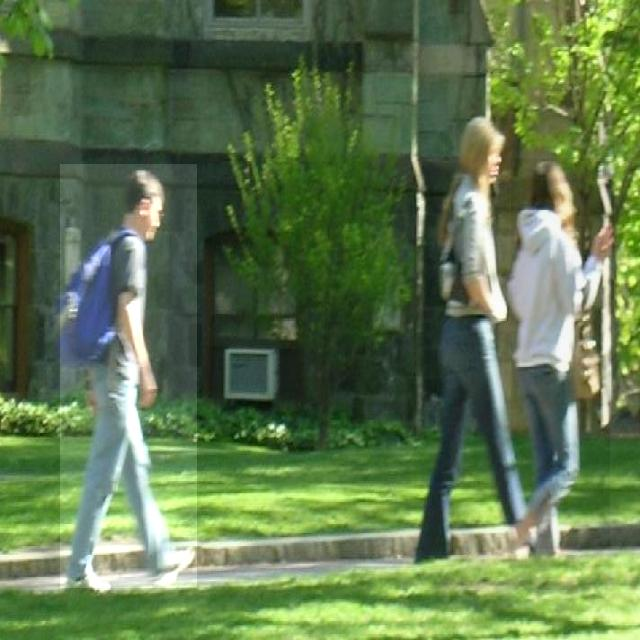with scooter: (60, 164, 197, 588), (414, 114, 515, 562), (511, 158, 610, 549)
